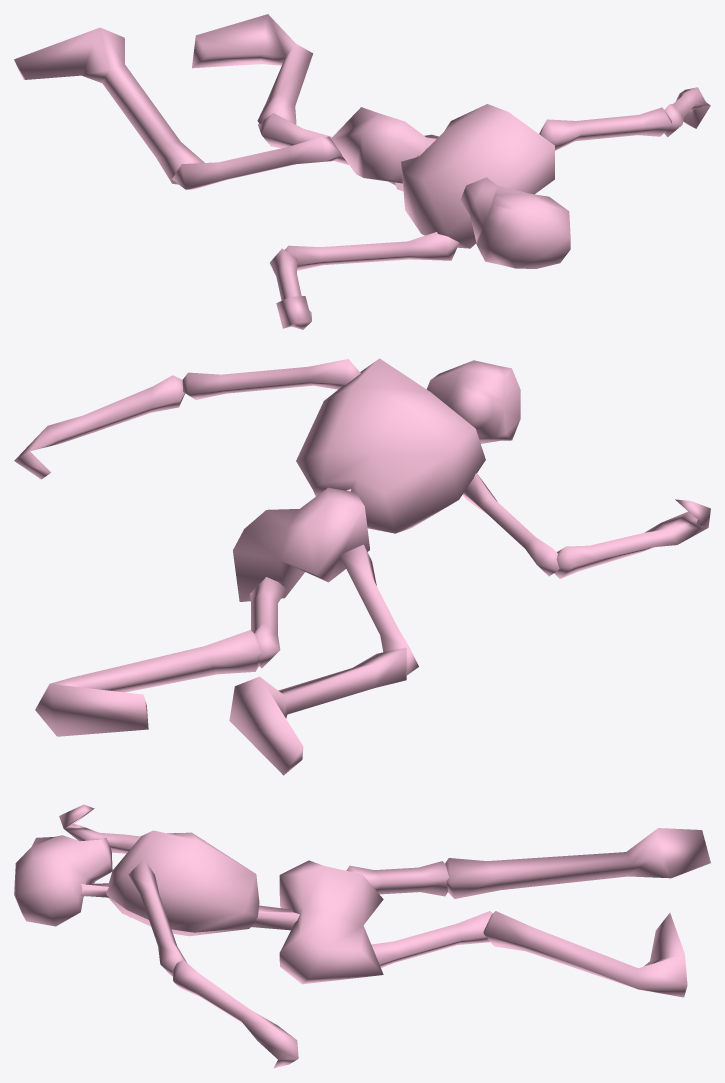
3 renders of one model, top to bottom at view 1: azimuth 30°, elevation 25°; view 2: azimuth 150°, elevation 25°; view 3: azimuth 270°, elevation 25°, orthographic. The views are drawn at different scales.
Parts seen in each view (by area): view 1: Object43; view 2: Object43; view 3: Object43.
Boxes of the visible parts, x1,y1,x2,y2 form: Object43: [14, 14, 710, 329]; Object43: [14, 358, 710, 775]; Object43: [14, 804, 710, 1068].
Bounding box in the file's own units: 151 × 43.04 × 176.
